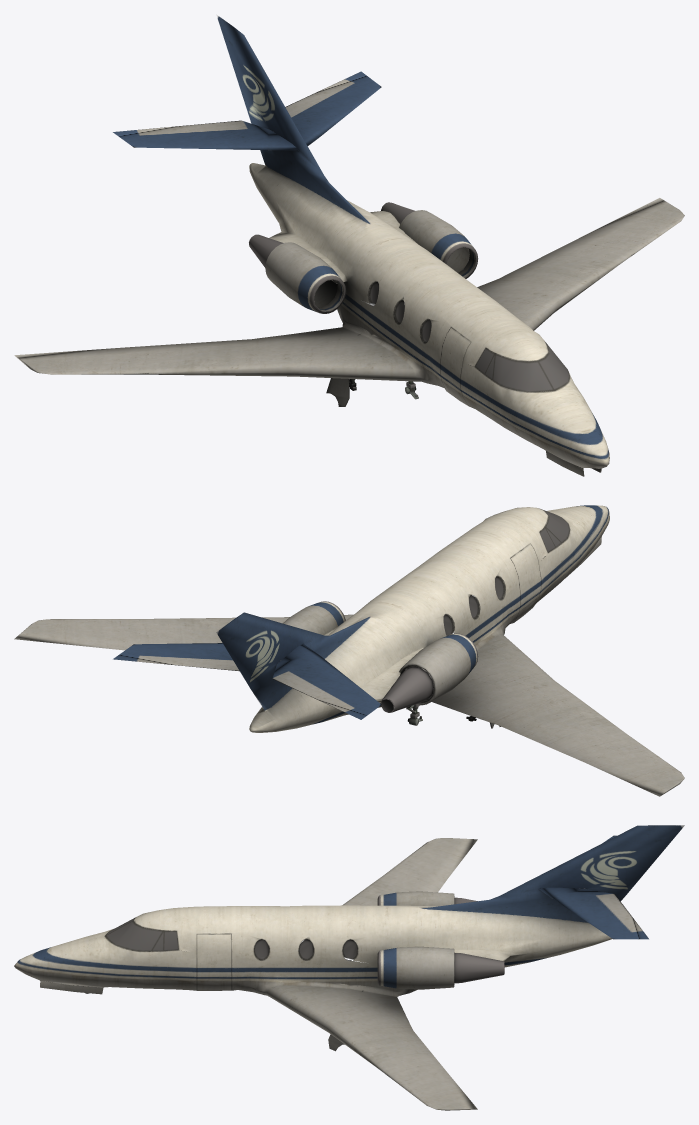
File: privatjet1.fbx
3 renders of one model, top to bottom at view 1: azimuth 30°, elevation 25°; view 2: azimuth 150°, elevation 25°; view 3: azimuth 270°, elevation 25°, orthographic. The views are drawn at different scales.
Visible parts, largest first — view 1: body_main; view 2: body_main; view 3: body_main.
Part boxes in pixels (x1,y1,x2,y2): body_main: (14, 14, 684, 476); body_main: (14, 505, 684, 796); body_main: (14, 825, 684, 1110).
Bounding box in the file's own units: 1944 × 675 × 2029.
